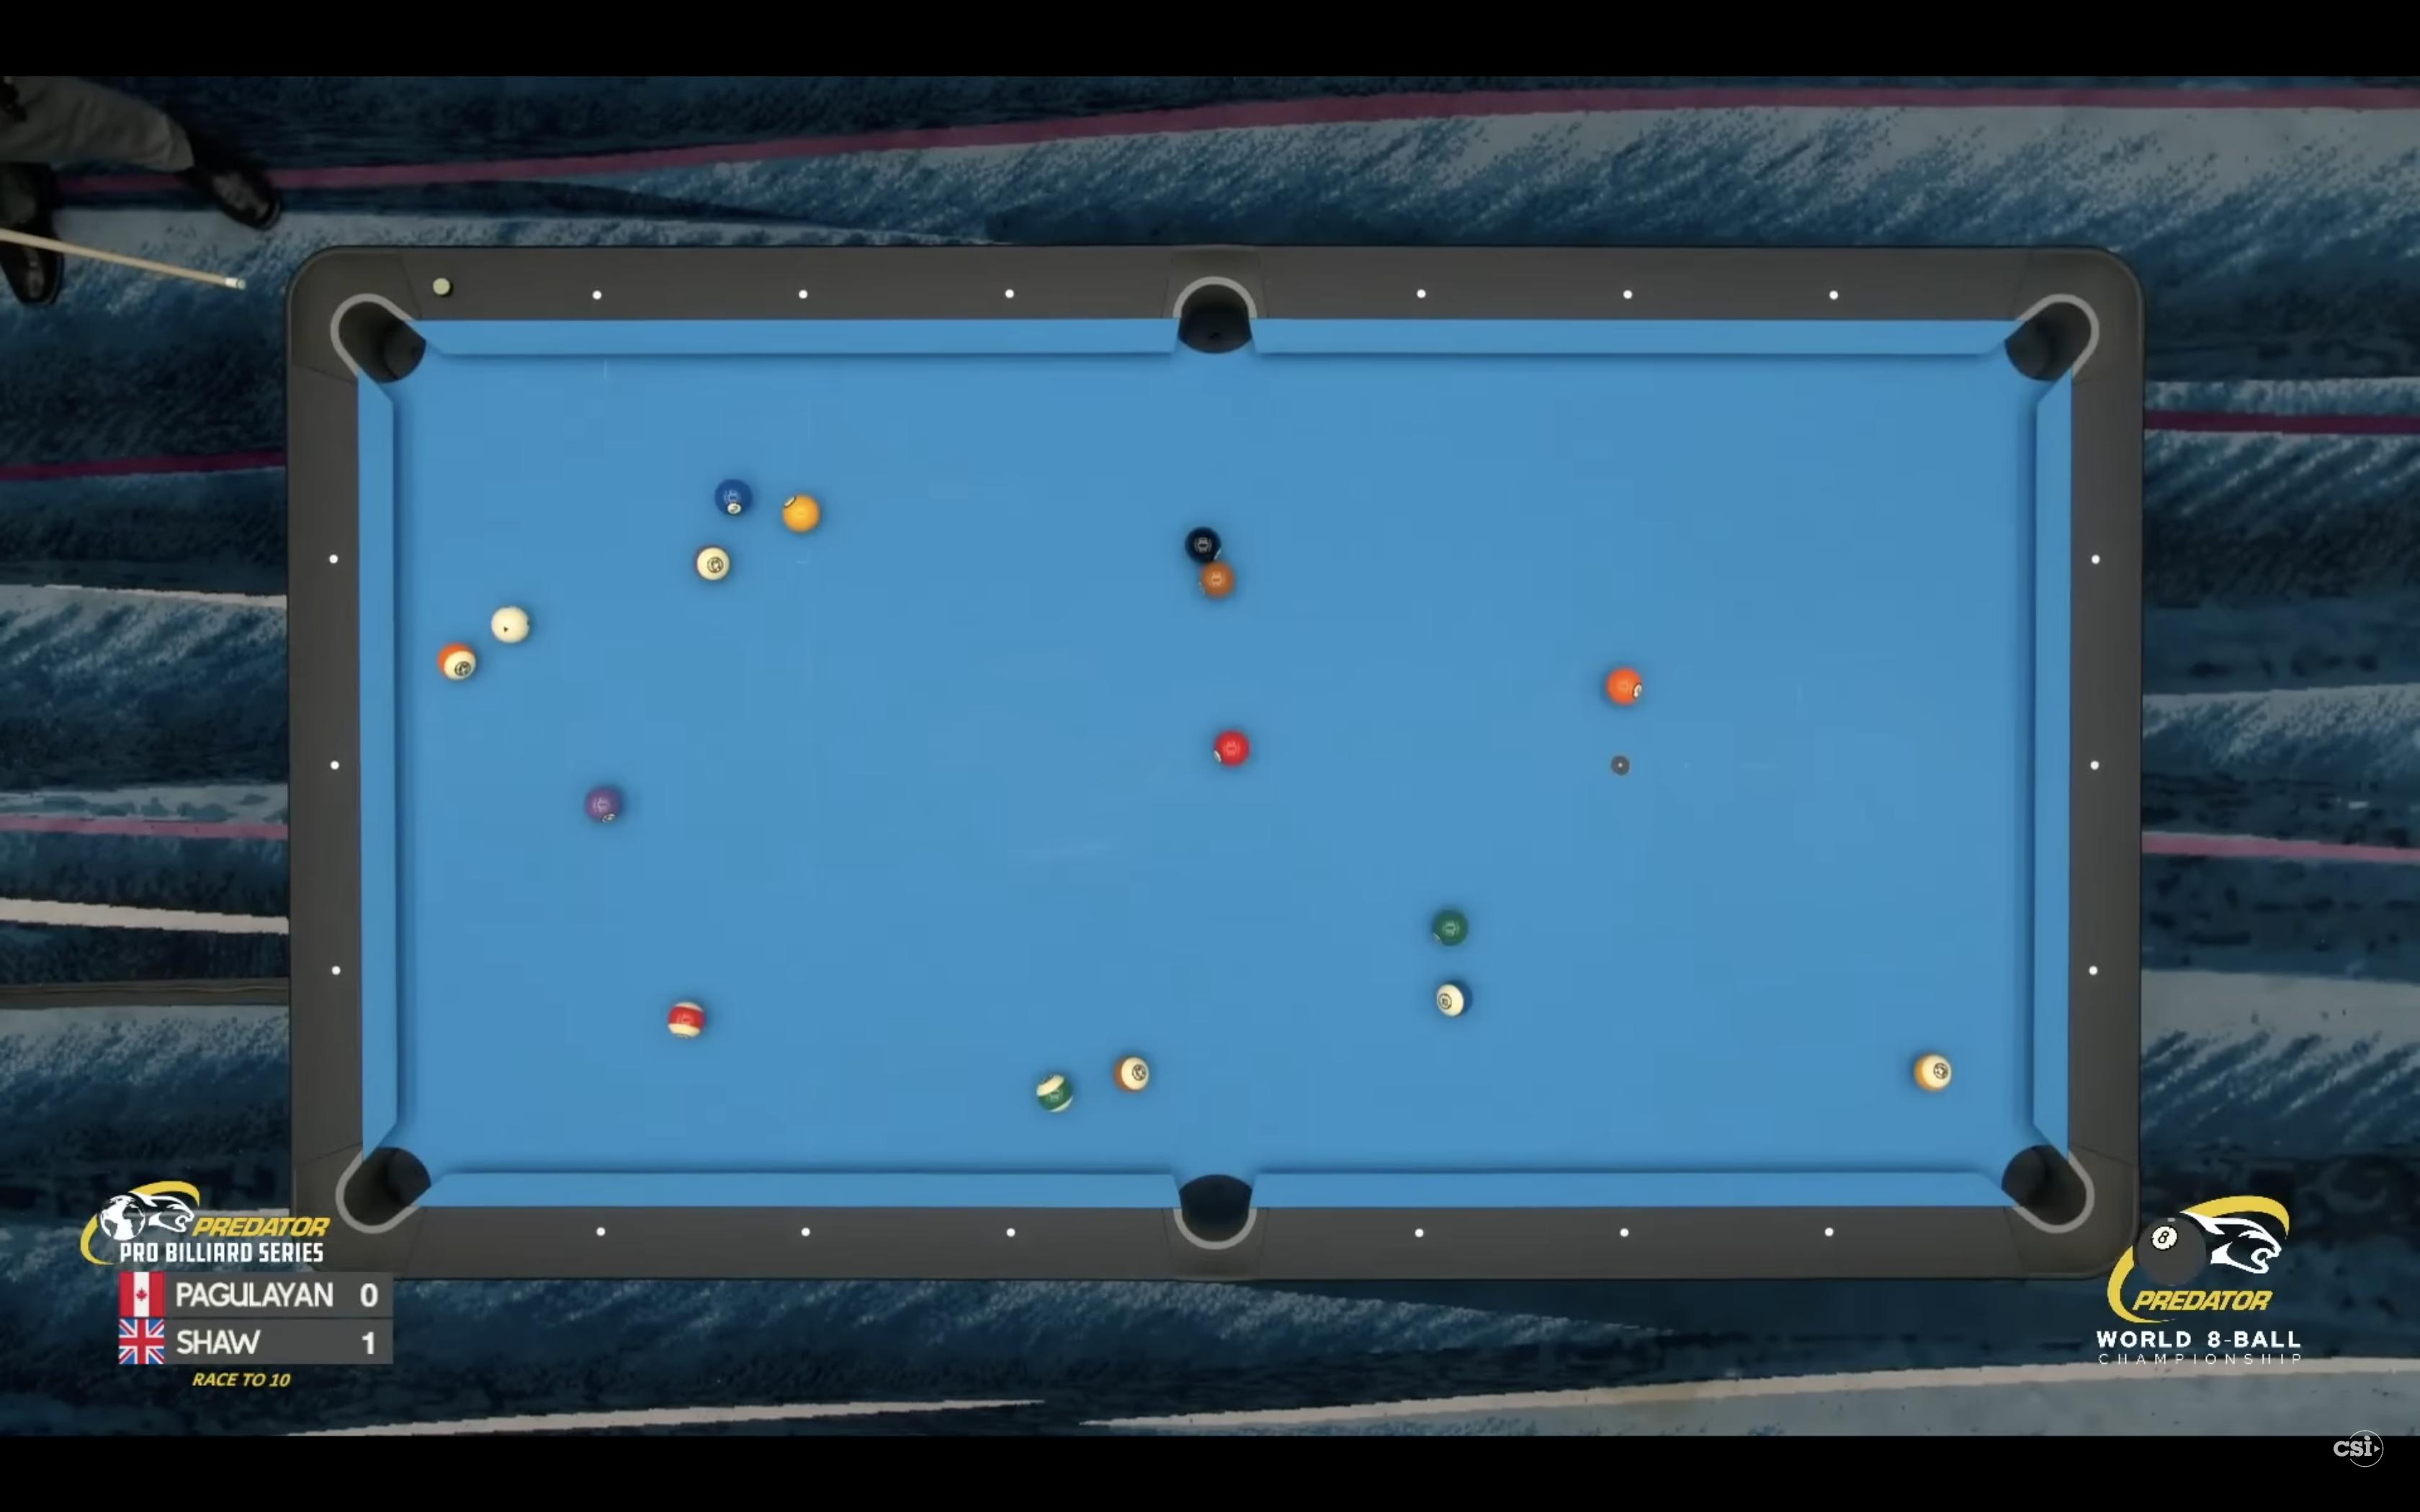Black: (1185, 528, 1221, 564)
Cue: (491, 606, 530, 645)
Dot: (596, 1226, 606, 1237), (798, 289, 808, 300), (1824, 1226, 1835, 1237), (1415, 1228, 1425, 1239), (329, 554, 338, 564), (592, 291, 603, 300), (1416, 289, 1427, 298), (1624, 289, 1632, 300), (2091, 554, 2099, 564), (2089, 965, 2098, 975), (1007, 1228, 1016, 1237), (801, 1228, 810, 1237), (331, 967, 340, 975), (331, 761, 340, 770), (1005, 289, 1014, 298), (1829, 291, 1838, 300), (2091, 761, 2099, 770), (1620, 1228, 1629, 1237)
Solid: (1606, 667, 1643, 705), (714, 479, 753, 516), (782, 495, 819, 533), (1432, 909, 1469, 946), (1214, 730, 1249, 768), (585, 787, 620, 824), (1200, 561, 1234, 597)
Striped: (1913, 1052, 1951, 1092), (437, 643, 476, 681), (1037, 1075, 1073, 1113), (667, 1002, 706, 1038), (1113, 1056, 1150, 1092), (693, 545, 730, 582), (1436, 979, 1472, 1016)
